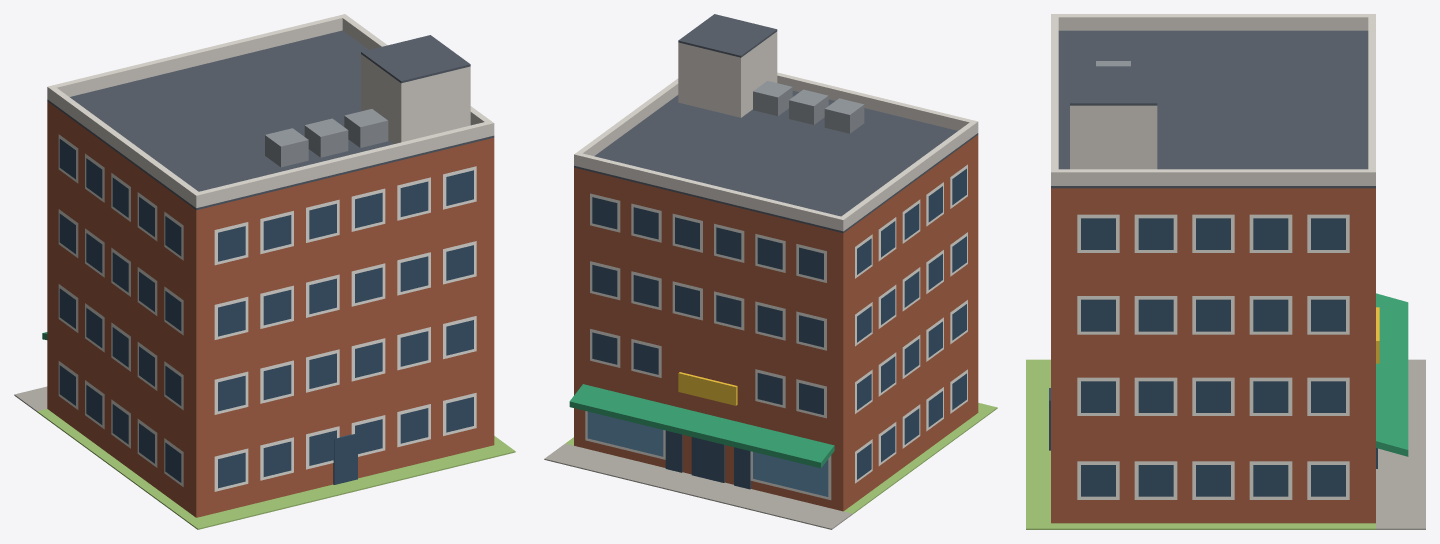
The picture shows the model from 3 angles, left to right: view 1: azimuth 30°, elevation 25°; view 2: azimuth 150°, elevation 25°; view 3: azimuth 270°, elevation 25°; orthographic projection. The views are drawn at different scales.
Visible parts, largest first — view 1: wall, roof (×2), window_glass (×24), parapet (×4), stair_tower, lawn, ac_unit (×3), door; view 2: wall, roof (×2), window_glass (×16), parapet (×4), awning, paving, stair_tower, storefront (×2), ac_unit (×3), door (×3), lawn, sign; view 3: wall, roof (×2), window_glass (×20), parapet (×4), window_frame (×20), lawn, stair_tower, paving, awning.
Boxes of the visible parts, x1,y1,x2,y2 form: wall: [47, 101, 494, 517]; roof (×2): [47, 30, 494, 210]; window_glass (×24): [218, 170, 473, 488]; parapet (×4): [47, 14, 494, 207]; stair_tower: [361, 54, 470, 144]; lawn: [37, 409, 515, 529]; ac_unit (×3): [265, 109, 388, 167]; door: [333, 433, 357, 484]; wall: [574, 135, 978, 511]; roof (×2): [574, 14, 978, 233]; window_glass (×16): [592, 197, 823, 414]; parapet (×4): [574, 72, 978, 231]; awning: [569, 384, 834, 468]; paving: [544, 443, 852, 529]; stair_tower: [678, 31, 777, 117]; storefront (×2): [587, 411, 828, 496]; ac_unit (×3): [753, 81, 864, 133]; door (×3): [665, 430, 750, 489]; lawn: [565, 403, 997, 514]; sign: [678, 372, 737, 405]; wall: [1051, 188, 1375, 523]; roof (×2): [1051, 30, 1375, 188]; window_glass (×20): [1081, 218, 1345, 496]; parapet (×4): [1051, 14, 1375, 185]; window_frame (×20): [1077, 214, 1349, 499]; lawn: [1026, 359, 1375, 529]; stair_tower: [1070, 105, 1157, 169]; paving: [1376, 359, 1425, 529]; awning: [1376, 293, 1408, 456].
Size of the model in its own units: 16 by 18.26 by 16.
